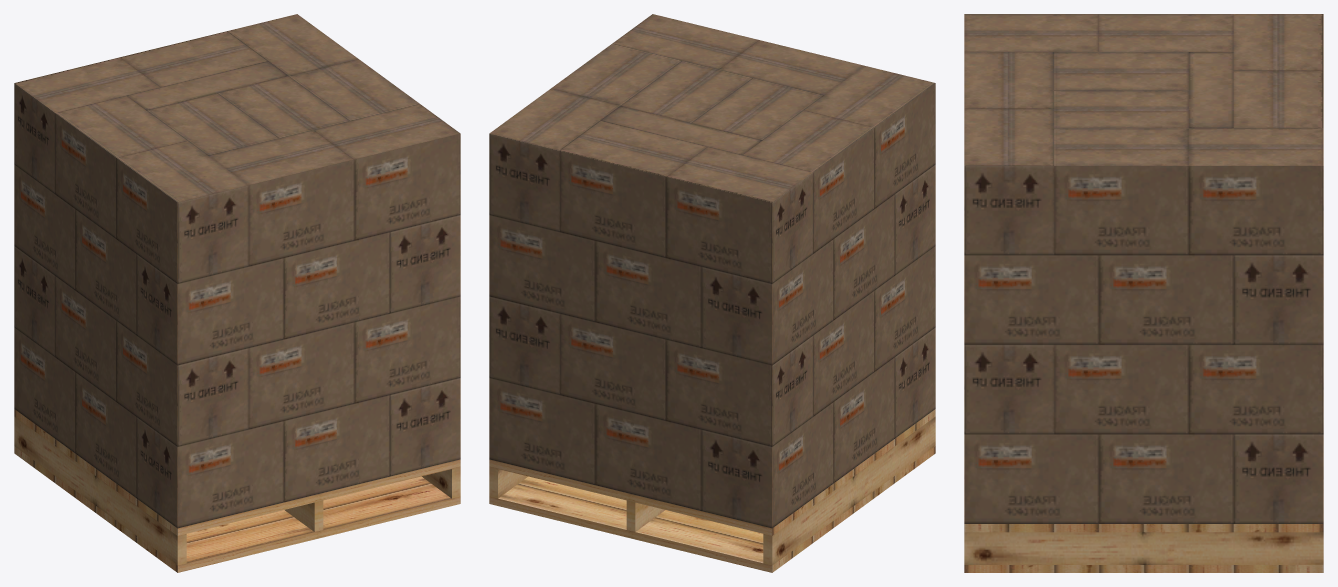
File: palletboxes.fbx
3 renders of one model, left to right at view 1: azimuth 30°, elevation 25°; view 2: azimuth 150°, elevation 25°; view 3: azimuth 270°, elevation 25°, orthographic. The views are drawn at different scales.
Visible parts, largest first — view 1: mesh_0; view 2: mesh_0; view 3: mesh_0.
Part boxes in pixels (bbox=[...]): mesh_0: bbox=[14, 14, 460, 572]; mesh_0: bbox=[489, 14, 935, 572]; mesh_0: bbox=[964, 14, 1323, 572].
Size of the model in its own units: 160 by 200 by 160.
1 material, 1 textured.
